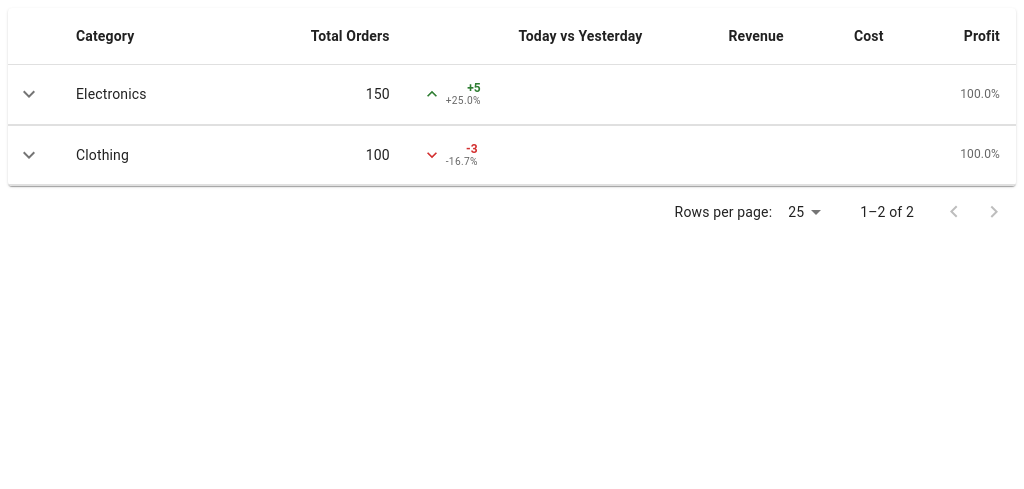
Scenario: MergedCategoryTable › shows different products when different category is clicked
Expected: the text "Clothing" is shown, [60, 125, 226, 185]
Click the text "Clothing": click(512, 155) [8, 125, 1016, 185]
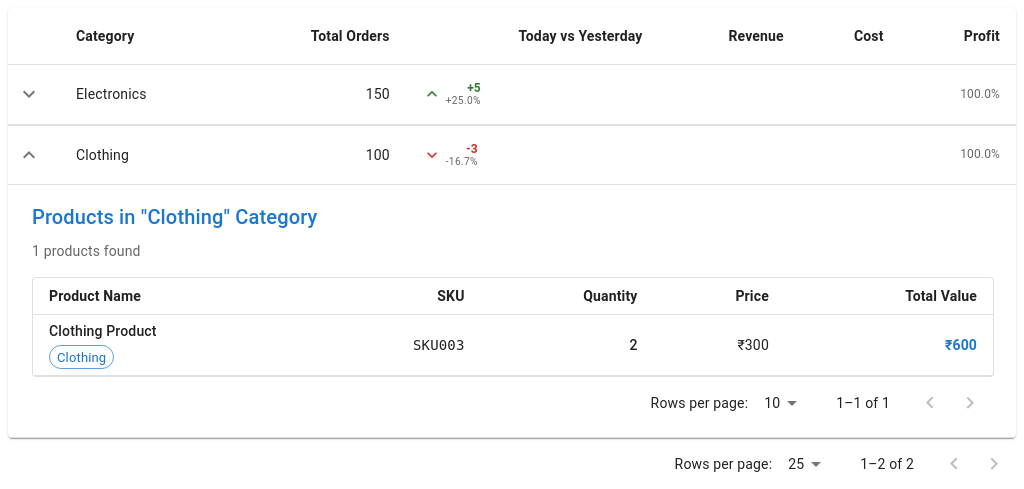
Expected: the heading "Products in \"Clothing\" Category" is shown, [32, 205, 317, 229]
Expected: the text "1 products found" is shown, [32, 243, 141, 259]
Expected: the text "Clothing Product" is shown, [49, 323, 157, 339]
